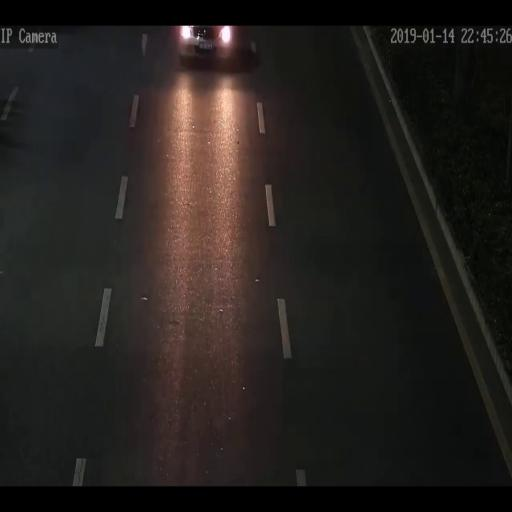License plate: (199, 42, 213, 50)
Vehicle: (176, 26, 238, 68)
